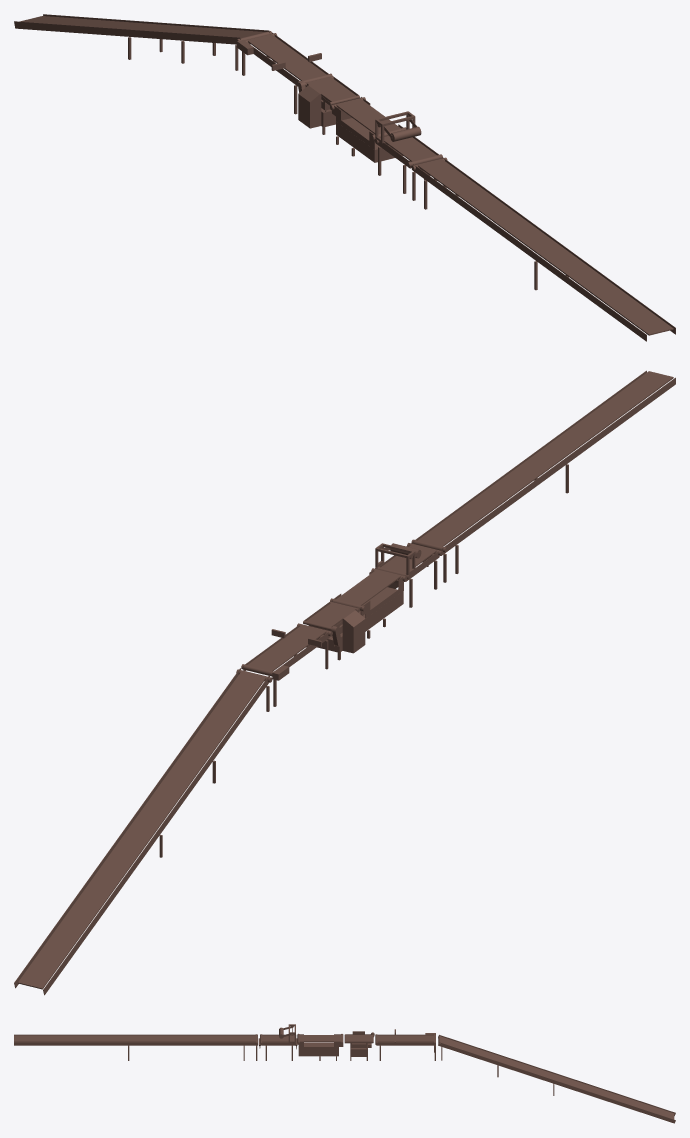
Rendered from GCC-AAV-13220-30.nwd(78).fbx.
The picture shows the model from 3 angles, top to bottom: view 1: azimuth 30°, elevation 25°; view 2: azimuth 150°, elevation 25°; view 3: azimuth 270°, elevation 25°; orthographic projection. The views are drawn at different scales.
Parts seen in each view (by area): view 1: BOX 13 of SUBEQUIPMENT 36 of EQUIPMENT /721-U-302, BOX 13 of SUBEQUIPMENT 41 of EQUIPMENT /721-U-302, BOX 2 of SUBEQUIPMENT 36 of EQUIPMENT /721-U-302, BOX 2 of SUBEQUIPMENT 41 of EQUIPMENT /721-U-302, BOX 7 of SUBEQUIPMENT 40 of EQUIPMENT /721-U-302, BOX 4 of SUBEQUIPMENT /721-U-302-X-004, BOX 1 of SUBEQUIPMENT /721-U-302-X-004, BOX 16 of SUBEQUIPMENT /721-U-302-X-005, BOX 1 of SUBEQUIPMENT 36 of EQUIPMENT /721-U-302, BOX 25 of SUBEQUIPMENT /721-U-302-X-015H, BOX 1 of SUBEQUIPMENT /721-U-302-X-005, BOX 1 of SUBEQUIPMENT 41 of EQUIPMENT /721-U-302; view 2: BOX 13 of SUBEQUIPMENT 41 of EQUIPMENT /721-U-302, BOX 13 of SUBEQUIPMENT 36 of EQUIPMENT /721-U-302, BOX 2 of SUBEQUIPMENT 41 of EQUIPMENT /721-U-302, BOX 2 of SUBEQUIPMENT 36 of EQUIPMENT /721-U-302, BOX 7 of SUBEQUIPMENT 40 of EQUIPMENT /721-U-302, BOX 1 of SUBEQUIPMENT 41 of EQUIPMENT /721-U-302, BOX 1 of SUBEQUIPMENT /721-U-302-X-004; view 3: BOX 13 of SUBEQUIPMENT 36 of EQUIPMENT /721-U-302, BOX 13 of SUBEQUIPMENT 41 of EQUIPMENT /721-U-302, BOX 1 of SUBEQUIPMENT 41 of EQUIPMENT /721-U-302, BOX 1 of SUBEQUIPMENT 36 of EQUIPMENT /721-U-302, BOX 2 of SUBEQUIPMENT 36 of EQUIPMENT /721-U-302, BOX 4 of SUBEQUIPMENT /721-U-302-X-004, BOX 2 of SUBEQUIPMENT 41 of EQUIPMENT /721-U-302, BOX 7 of SUBEQUIPMENT 40 of EQUIPMENT /721-U-302, BOX 1 of SUBEQUIPMENT /721-U-302-X-004, BOX 2 of SUBEQUIPMENT /721-U-302-X-004, BOX 1 of SUBEQUIPMENT 40 of EQUIPMENT /721-U-302, BOX 25 of SUBEQUIPMENT /721-U-302-X-015H (+1 smaller).
Boxes of the visible parts, box(x1,y1,x2,y2) form: BOX 13 of SUBEQUIPMENT 36 of EQUIPMENT /721-U-302: box(417, 159, 673, 335); BOX 13 of SUBEQUIPMENT 41 of EQUIPMENT /721-U-302: box(20, 16, 265, 37); BOX 2 of SUBEQUIPMENT 36 of EQUIPMENT /721-U-302: box(413, 164, 646, 341); BOX 2 of SUBEQUIPMENT 41 of EQUIPMENT /721-U-302: box(14, 21, 240, 44); BOX 7 of SUBEQUIPMENT 40 of EQUIPMENT /721-U-302: box(247, 34, 326, 80); BOX 4 of SUBEQUIPMENT /721-U-302-X-004: box(336, 118, 402, 162); BOX 1 of SUBEQUIPMENT /721-U-302-X-004: box(336, 98, 400, 134); BOX 16 of SUBEQUIPMENT /721-U-302-X-005: box(298, 85, 321, 128); BOX 1 of SUBEQUIPMENT 36 of EQUIPMENT /721-U-302: box(442, 157, 675, 334); BOX 25 of SUBEQUIPMENT /721-U-302-X-015H: box(384, 136, 436, 161); BOX 1 of SUBEQUIPMENT /721-U-302-X-005: box(306, 77, 356, 101); BOX 1 of SUBEQUIPMENT 41 of EQUIPMENT /721-U-302: box(43, 14, 270, 33); BOX 13 of SUBEQUIPMENT 41 of EQUIPMENT /721-U-302: box(18, 671, 265, 989); BOX 13 of SUBEQUIPMENT 36 of EQUIPMENT /721-U-302: box(417, 371, 673, 546); BOX 2 of SUBEQUIPMENT 41 of EQUIPMENT /721-U-302: box(43, 675, 269, 995); BOX 2 of SUBEQUIPMENT 36 of EQUIPMENT /721-U-302: box(442, 377, 675, 554); BOX 7 of SUBEQUIPMENT 40 of EQUIPMENT /721-U-302: box(247, 624, 326, 671); BOX 1 of SUBEQUIPMENT 41 of EQUIPMENT /721-U-302: box(14, 668, 240, 988); BOX 1 of SUBEQUIPMENT /721-U-302-X-004: box(336, 569, 401, 605); BOX 13 of SUBEQUIPMENT 36 of EQUIPMENT /721-U-302: box(14, 1035, 256, 1041); BOX 13 of SUBEQUIPMENT 41 of EQUIPMENT /721-U-302: box(440, 1036, 674, 1119); BOX 1 of SUBEQUIPMENT 41 of EQUIPMENT /721-U-302: box(438, 1042, 675, 1123); BOX 1 of SUBEQUIPMENT 36 of EQUIPMENT /721-U-302: box(14, 1042, 257, 1045); BOX 2 of SUBEQUIPMENT 36 of EQUIPMENT /721-U-302: box(14, 1034, 257, 1035); BOX 4 of SUBEQUIPMENT /721-U-302-X-004: box(298, 1042, 338, 1056); BOX 2 of SUBEQUIPMENT 41 of EQUIPMENT /721-U-302: box(438, 1035, 675, 1115); BOX 7 of SUBEQUIPMENT 40 of EQUIPMENT /721-U-302: box(376, 1035, 434, 1041); BOX 1 of SUBEQUIPMENT /721-U-302-X-004: box(298, 1035, 341, 1041); BOX 2 of SUBEQUIPMENT /721-U-302-X-004: box(298, 1041, 343, 1049); BOX 1 of SUBEQUIPMENT 40 of EQUIPMENT /721-U-302: box(377, 1042, 435, 1045); BOX 25 of SUBEQUIPMENT /721-U-302-X-015H: box(261, 1035, 294, 1041).
Size of the model in its own units: 50.27 by 160 by 1052.
